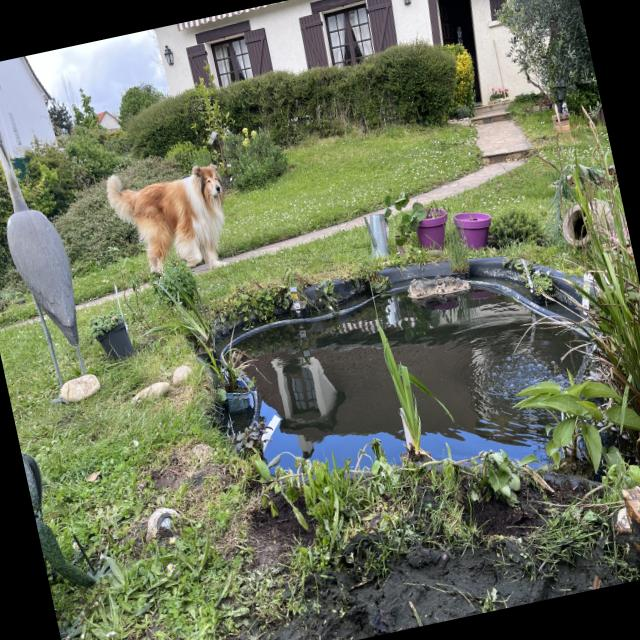Dog: (89, 144, 251, 310)
Heron: (0, 105, 113, 437)
